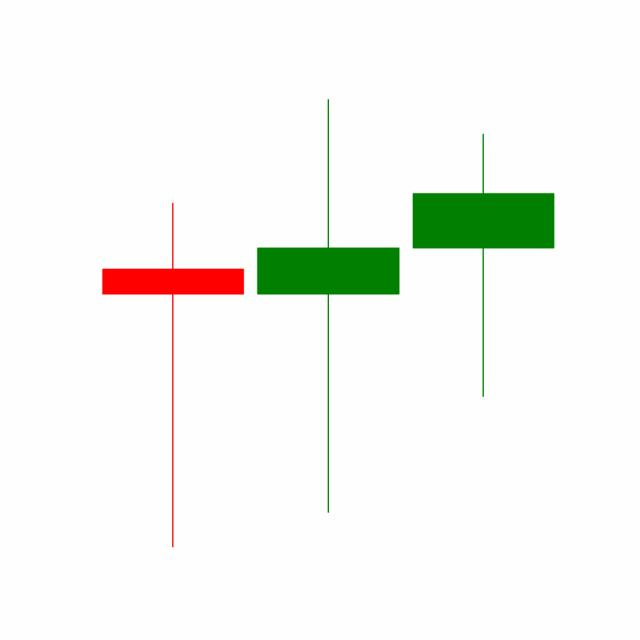Spinning Top: (249, 94, 406, 517)
